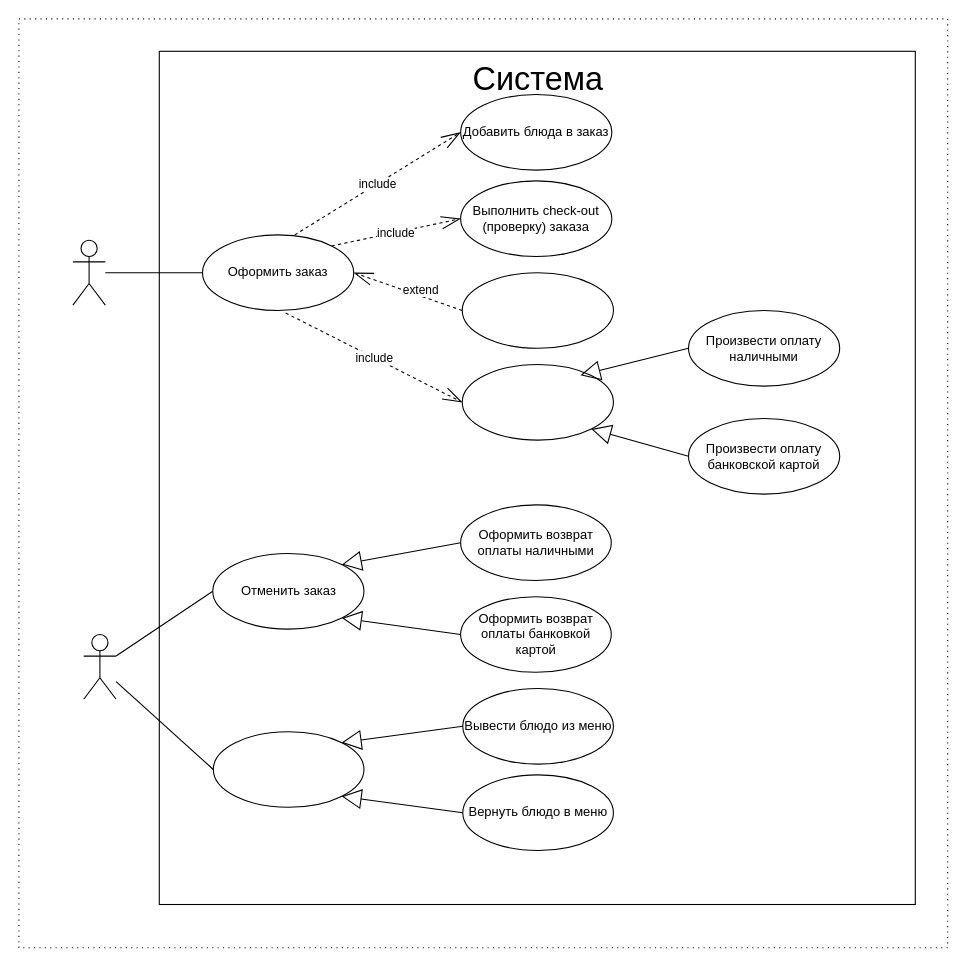
The diagram is 967 pixels wide and 967 high, and some of its shapes have lost their labels. Here are the shapes that lost their labels. From the top down, the centre of each, then its label:
At point (88, 272): "Клиент".
At point (537, 310): "Зарегистрироваться в программе лояльности".
At point (537, 401): "Произвести оплату".
At point (99, 666): "Менеджер по гостеприимству".
At point (288, 769): "Настроить состав меню".
